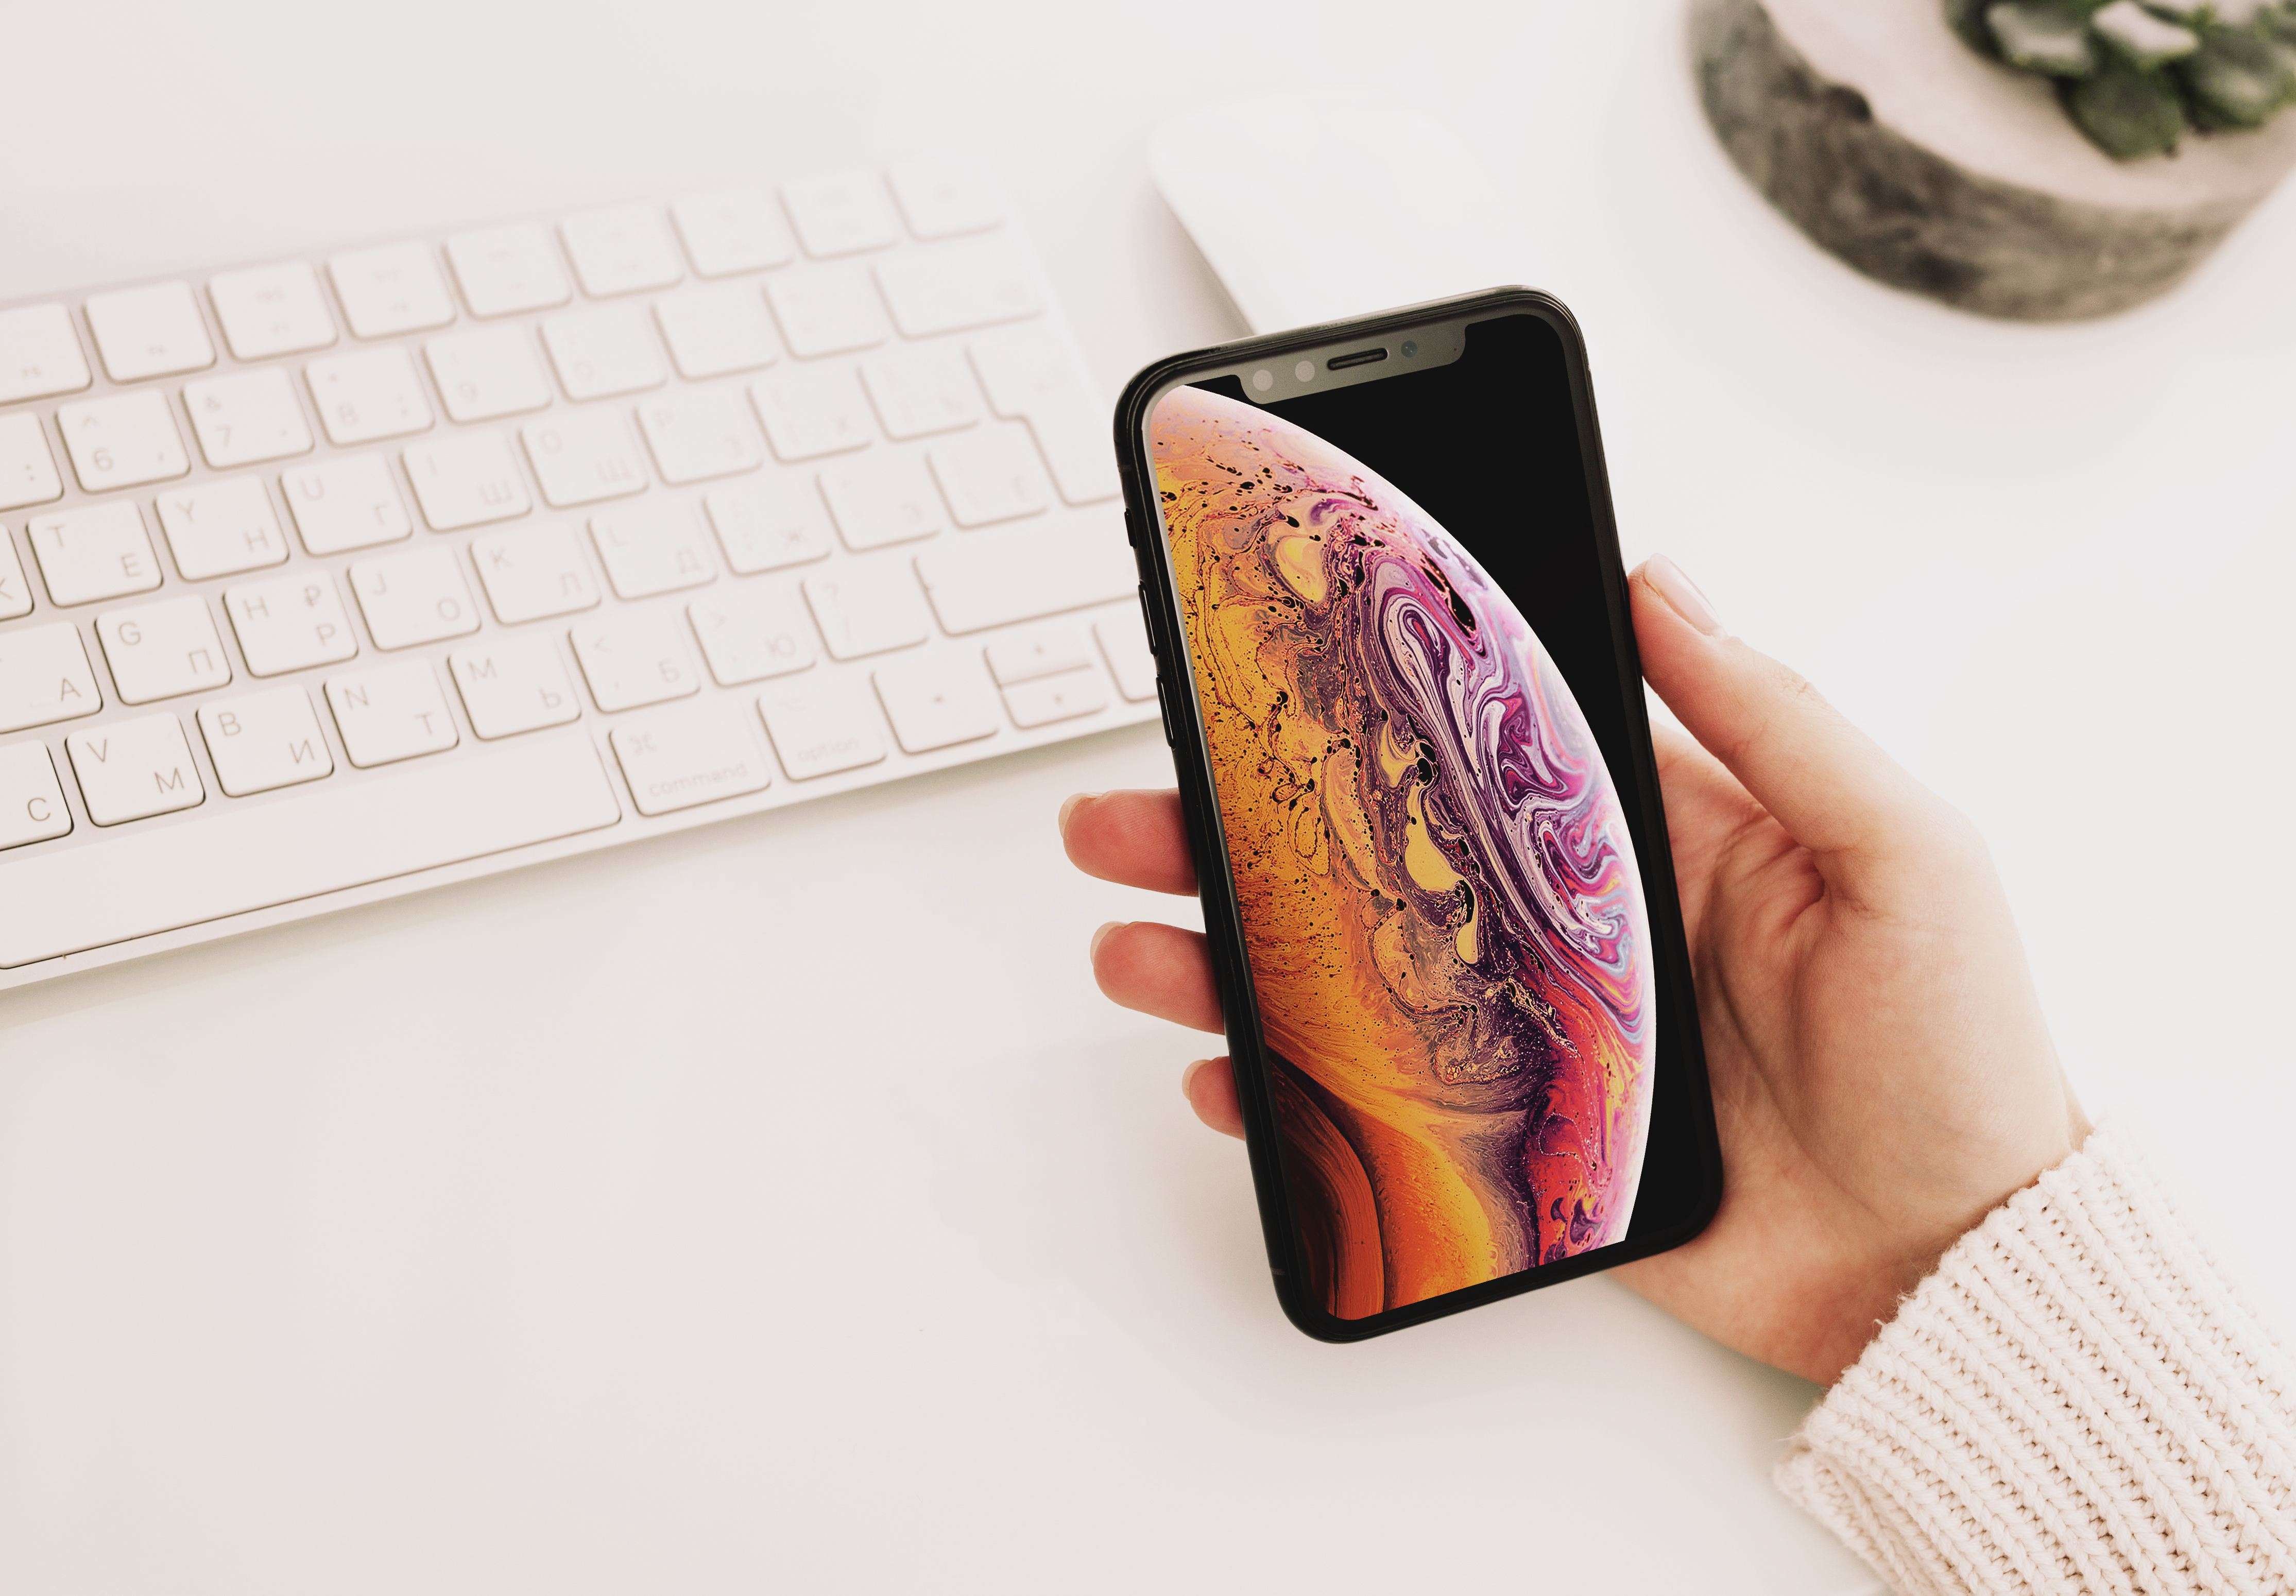phone: (1061, 272, 2081, 1338)
